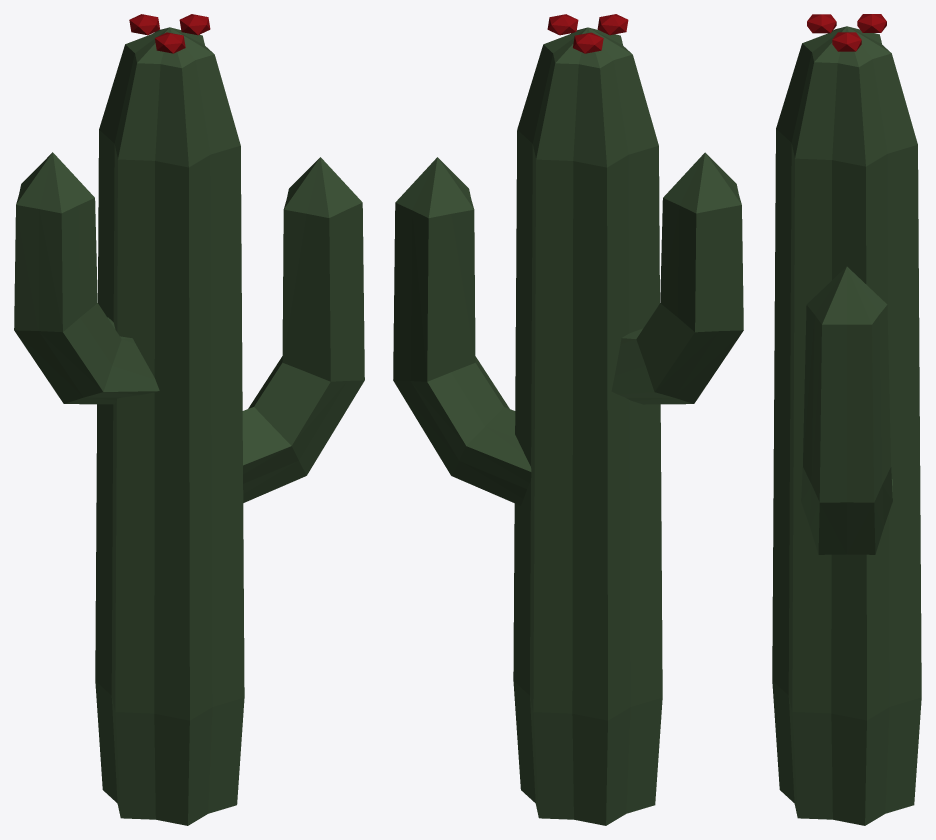
Rendered from cactus_a.fbx.
3 renders of one model, left to right at view 1: azimuth 30°, elevation 25°; view 2: azimuth 150°, elevation 25°; view 3: azimuth 270°, elevation 25°, orthographic.
Parts seen in each view (by area): view 1: cactus_a; view 2: cactus_a; view 3: cactus_a.
Boxes of the visible parts, x1=… form: cactus_a: x1=14, y1=14, x2=364, y2=825; cactus_a: x1=393, y1=14, x2=743, y2=825; cactus_a: x1=772, y1=14, x2=921, y2=825.
Bounding box in the file's own units: 2.02 × 4.43 × 0.7727.
